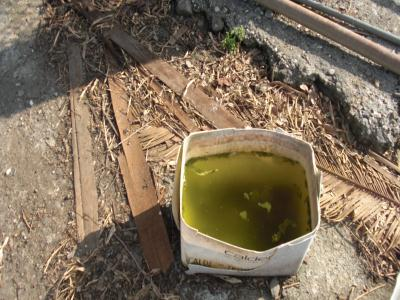box: (168, 122, 327, 284)
